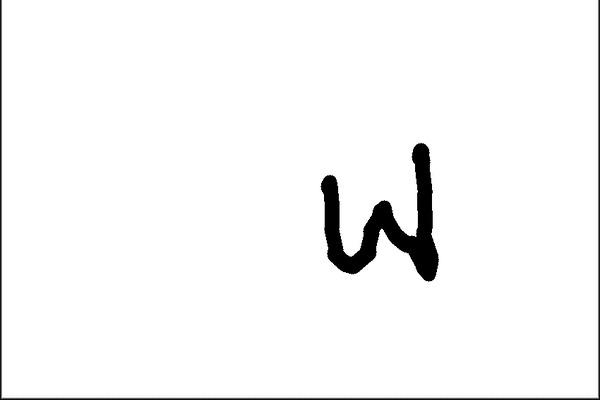w: (305, 137, 456, 296)
